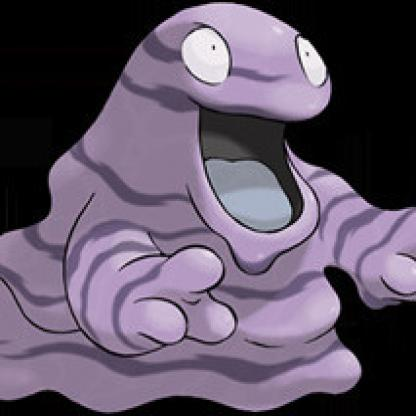Grimer: (1, 1, 415, 415)
